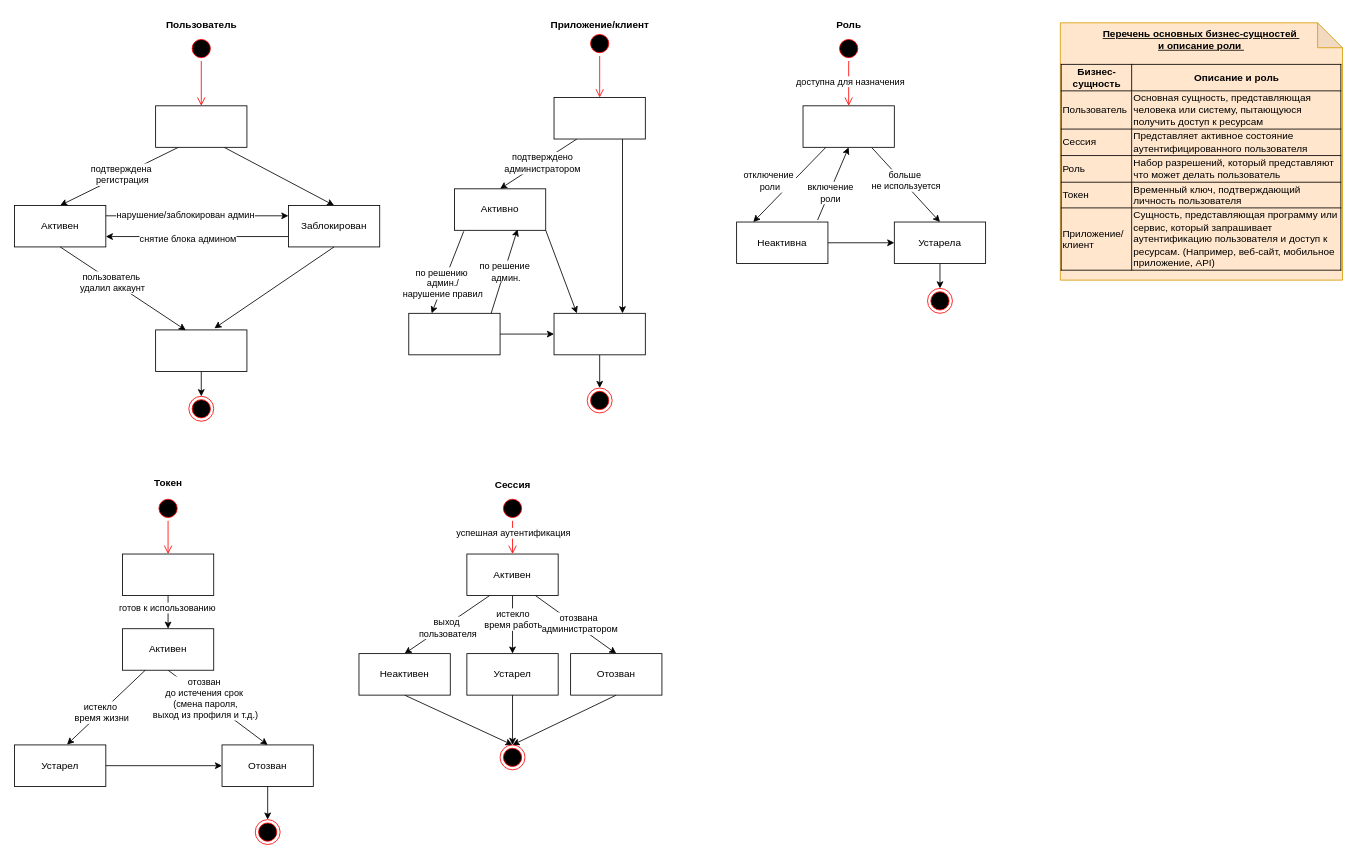
This 1357x859 diagram has some shape labels left out. The shapes that lost their labels are listed below. From the top down, each one's centre as x and y in pixels, then its label:
At point (201, 126): "Зарегистрирован".
At point (599, 118): "Зарегистровано".
At point (848, 126): "Активна".
At point (201, 350): "Удален".
At point (454, 333): "Заблокировано".
At point (599, 333): "Удалено".
At point (168, 574): "Сгенерирован".
